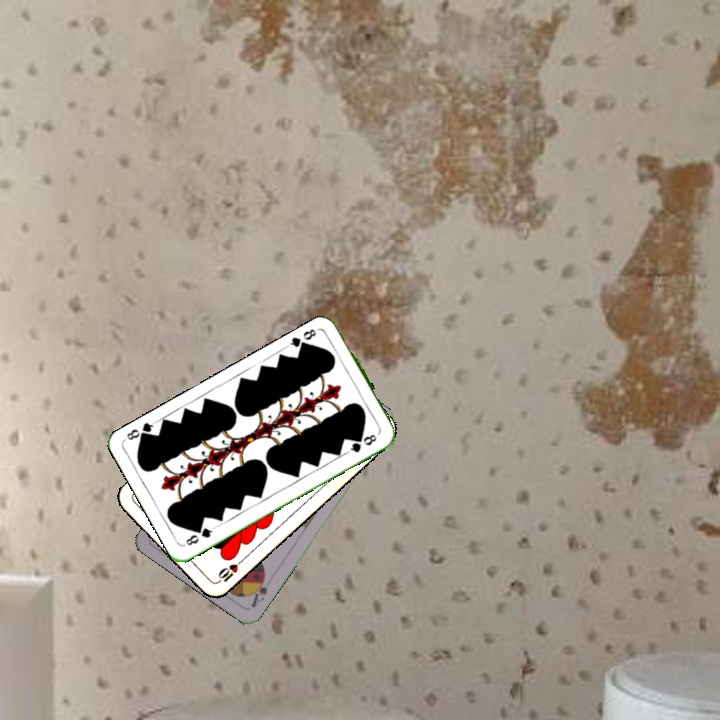G8: (284, 324, 322, 353), (182, 523, 218, 548)
H10: (212, 555, 246, 586)
SA: (246, 571, 270, 610)
